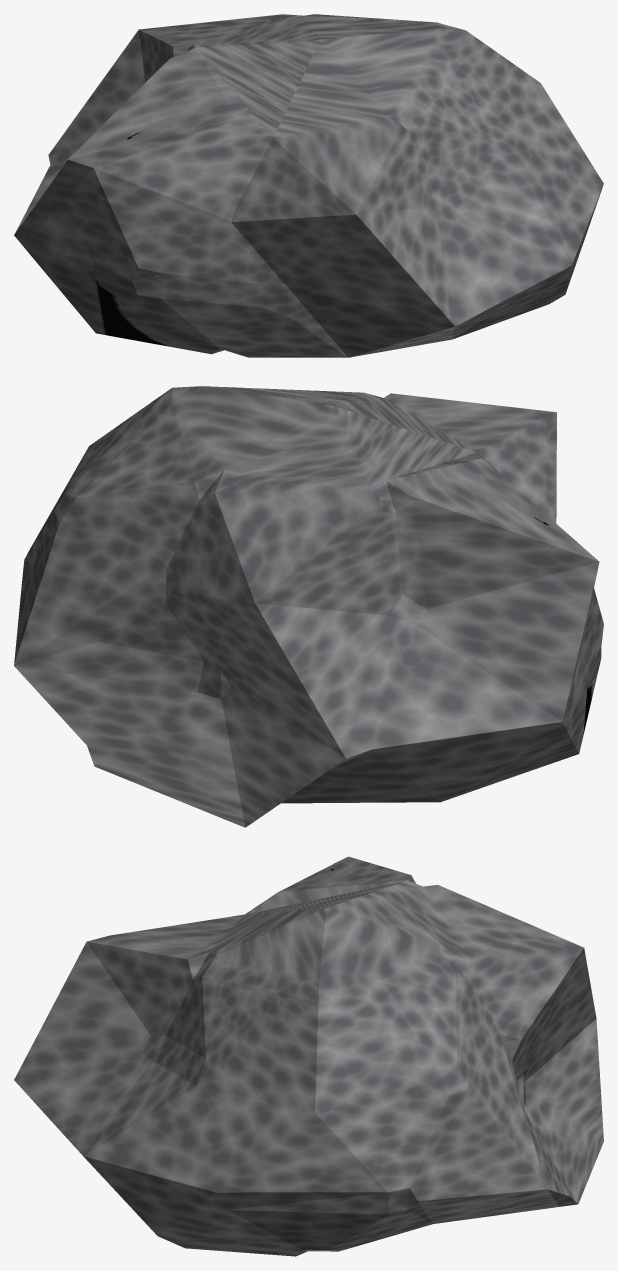
3 views of the same model, one above another, from view 1: azimuth 30°, elevation 25°; view 2: azimuth 150°, elevation 25°; view 3: azimuth 270°, elevation 25° (orthographic). The views are drawn at different scales.
Visible parts, largest first — view 1: 바위_05; view 2: 바위_05; view 3: 바위_05.
Part boxes in pixels (x1,y1,x2,y2): 바위_05: (14,14,603,357); 바위_05: (14,386,603,827); 바위_05: (14,856,603,1256).
Bounding box in the file's own units: 6453 × 3221 × 6542.
Materials: 1 (1 with a texture image).
